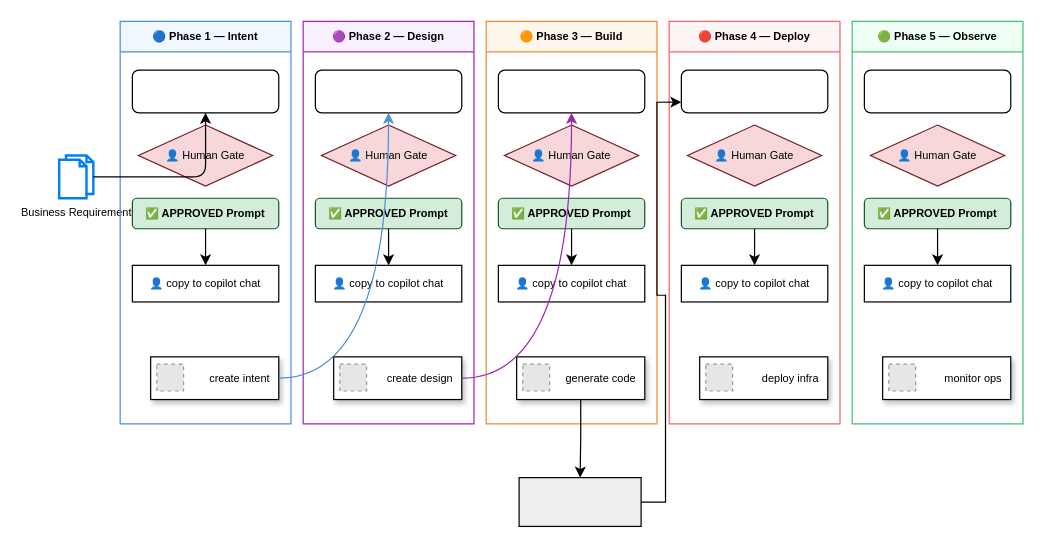
The diagram is 1044 pixels wide and 548 high, and some of its shapes have lost their labels. Grey dashed boxes stand in for pictures. Each missing label, with the centre of its shape:
Codebase: [579,501]
▶ 1_run_intent.py: [205,91]
▶ 2_run_design.py: [388,91]
▶ 3_run_construction.py: [571,91]
▶ 4_run_deploy.py: [754,91]
▶ 5_run_obs.py: [937,91]
